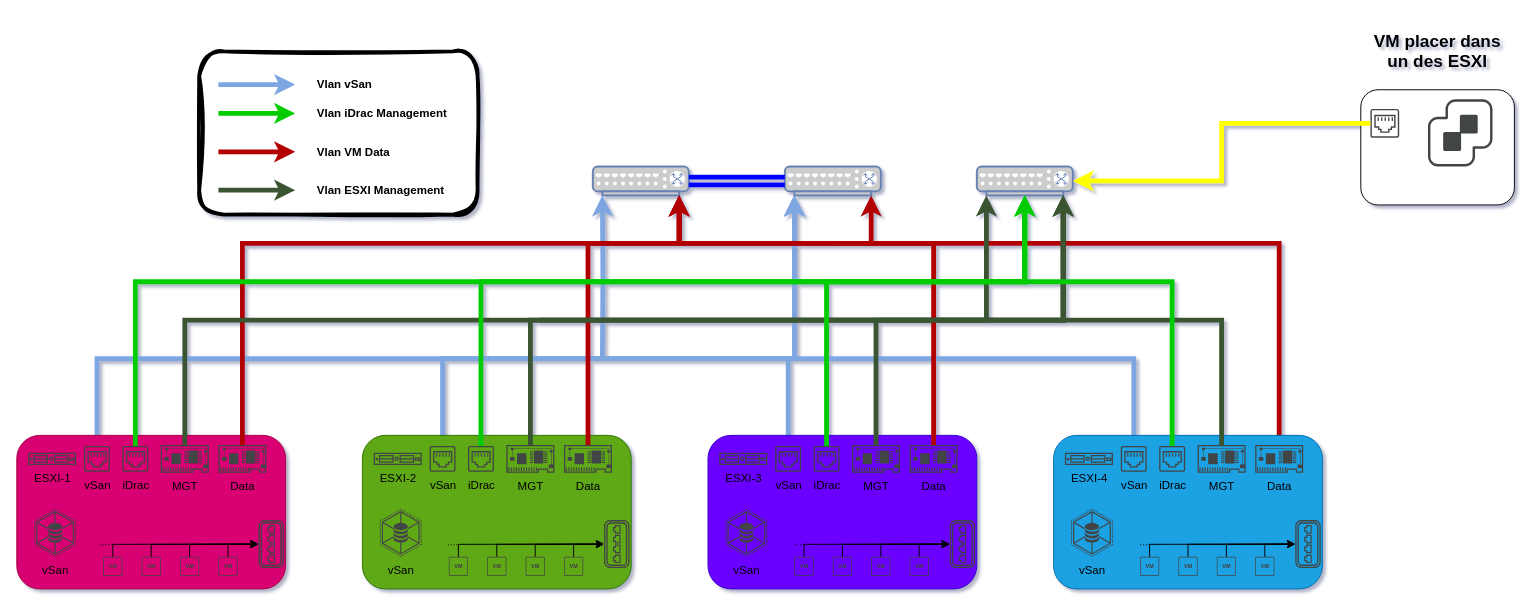
Some shapes in this 1537 by 612 pixel diagram are drawn without their labels. The centre of each missing label's shape, as x and y in pixels:
"Switch Data" belongs at point 640,180.
"Switch Data 2" belongs at point 832,180.
"Switch de management" belongs at point 1024,180.
"vCenter Server" belongs at point 1460,132.
